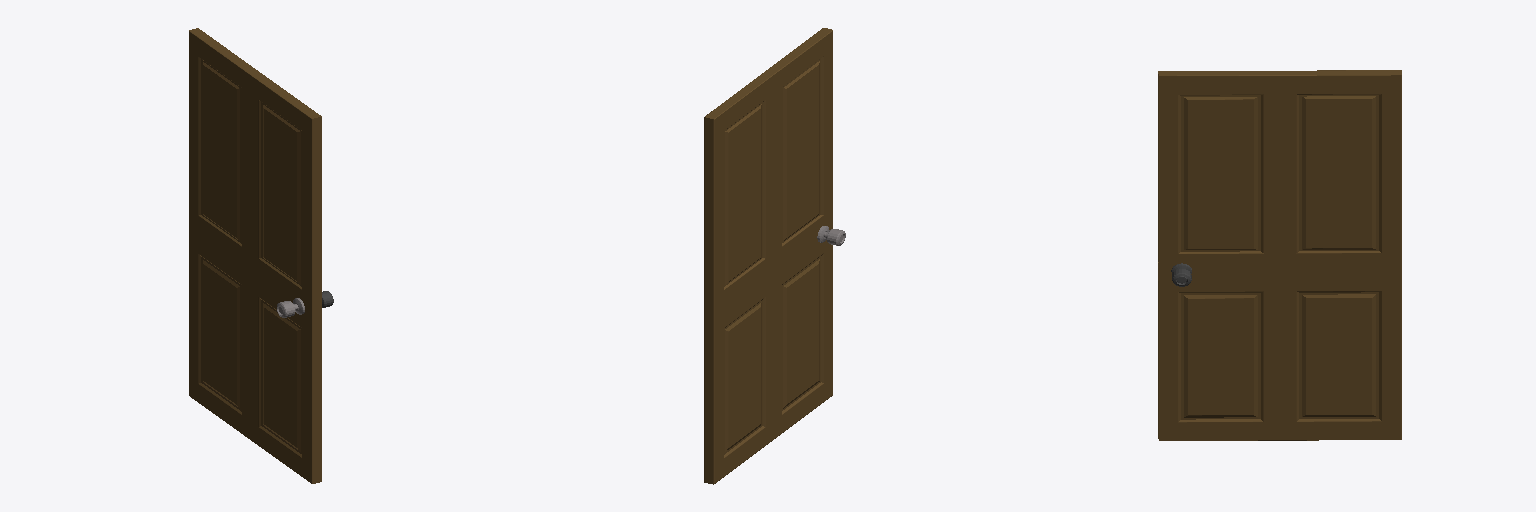
3 renders of one model, left to right at view 1: azimuth 30°, elevation 25°; view 2: azimuth 150°, elevation 25°; view 3: azimuth 270°, elevation 25°, orthographic.
Parts seen in each view (by area): view 1: PuertaAdelante4; view 2: PuertaAdelante4; view 3: PuertaAdelante4.
Boxes of the visible parts, x1,y1,x2,y2 form: PuertaAdelante4: [189, 28, 333, 483]; PuertaAdelante4: [704, 28, 845, 484]; PuertaAdelante4: [1158, 70, 1401, 440].
Bounding box in the file's own units: 0.7926 × 5.48 × 3.31.
3 materials, 3 textured.